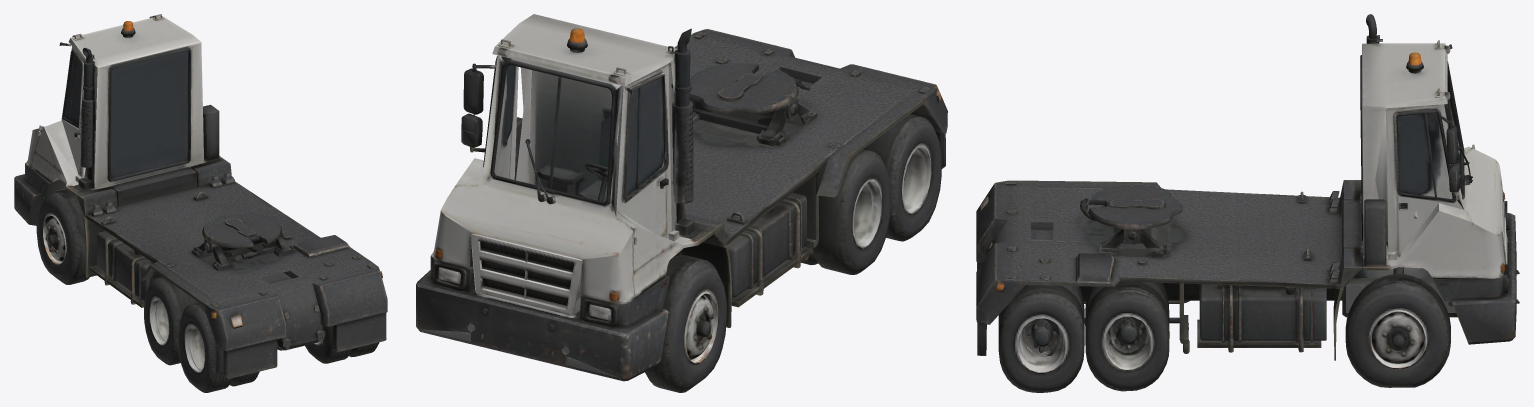
The model's file is yard_tractor.glb.
3 views of the same model, side by side, from view 1: azimuth 30°, elevation 25°; view 2: azimuth 150°, elevation 25°; view 3: azimuth 270°, elevation 25° (orthographic). The views are drawn at different scales.
Parts seen in each view (by area): view 1: yard_tractor; view 2: yard_tractor; view 3: yard_tractor.
Boxes of the visible parts, x1,y1,x2,y2 form: yard_tractor: (14, 14, 387, 392); yard_tractor: (416, 14, 947, 392); yard_tractor: (976, 14, 1519, 392).
Bounding box in the file's own units: 2.56 × 3.33 × 5.6.
Materials: 1 (1 with a texture image).
